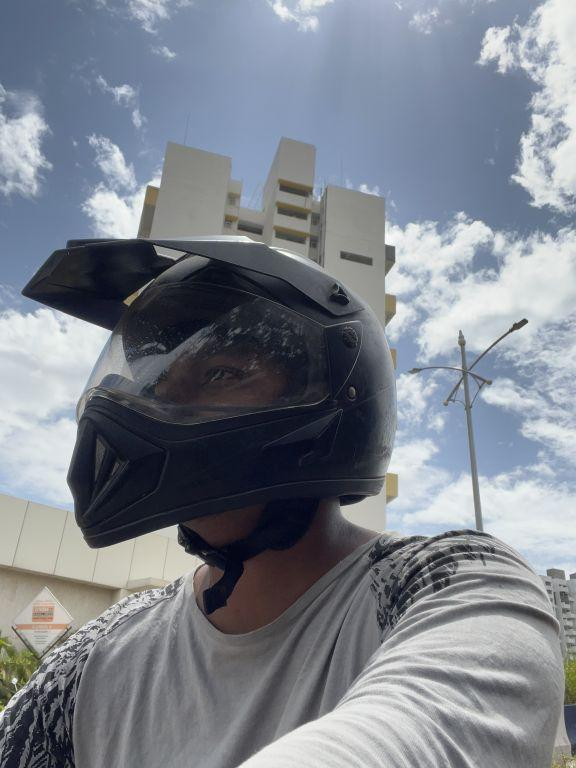helmet: (19, 224, 397, 562)
